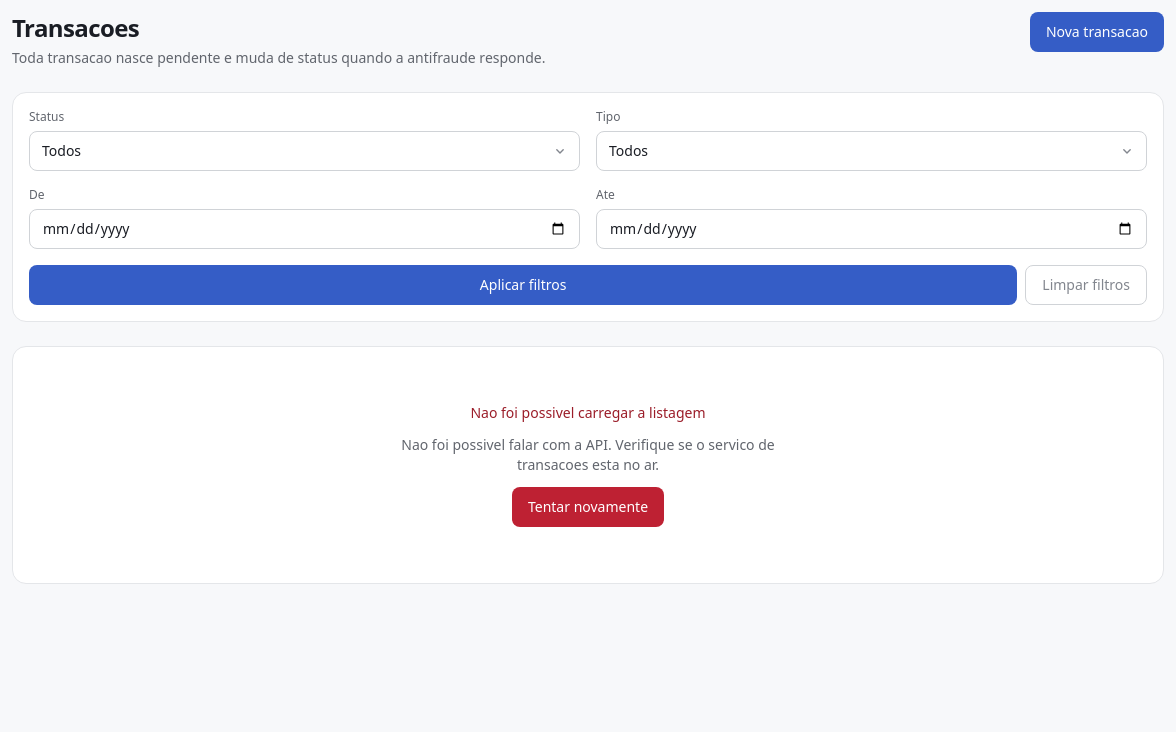
Test: TransactionsView › mostra a falha e busca de novo quando o usuario pede
Expected: the message shows "Nao foi possivel falar com a API", [401,435,775,474]
Click the button "Tentar novamente": (588, 507) [512,487,664,527]
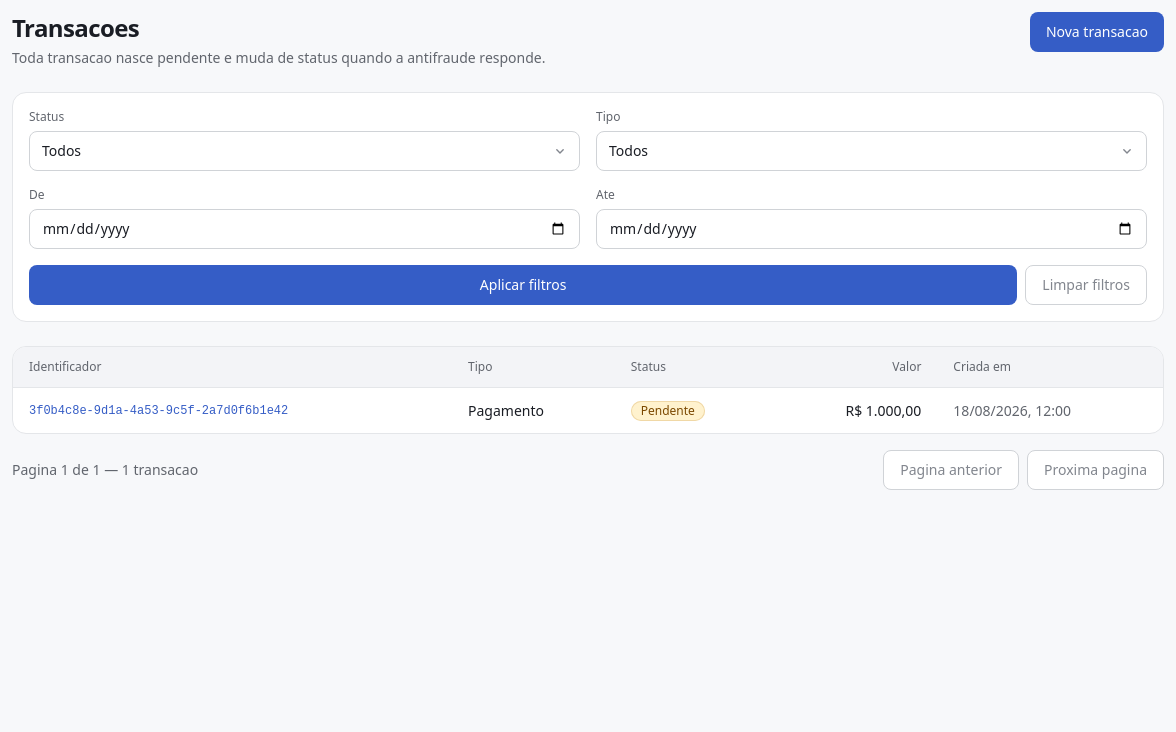
Now the table is shown, box [13,347,1163,433]
